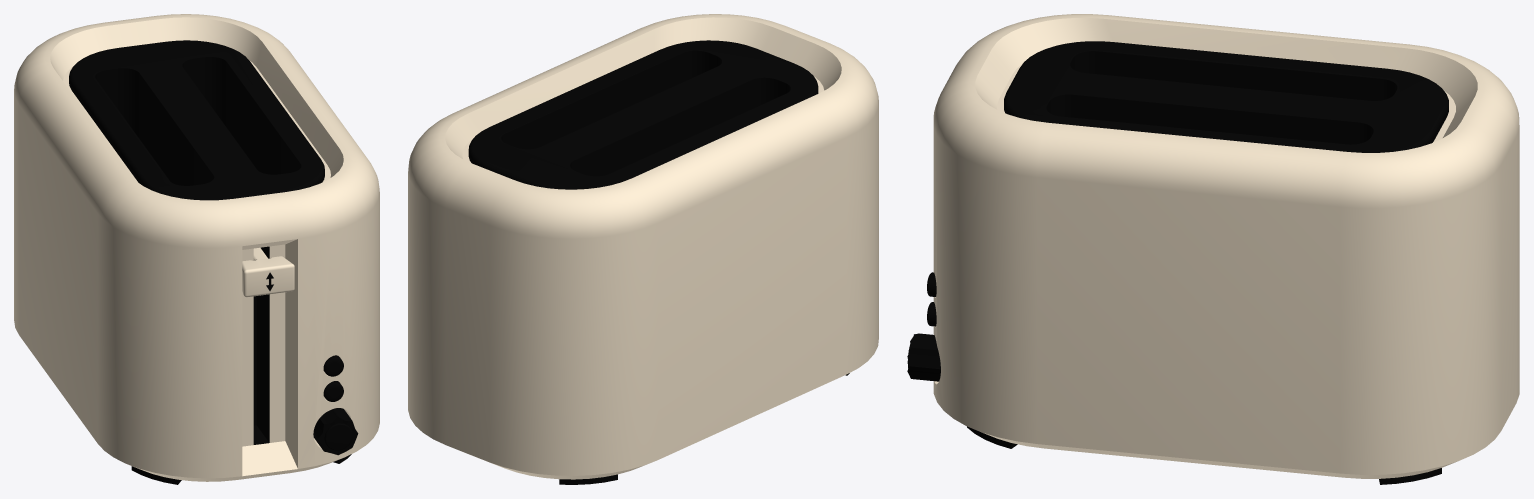
Rendered from 32809140-kitchen-3428.glb.
3 renders of one model, left to right at view 1: azimuth 30°, elevation 25°; view 2: azimuth 150°, elevation 25°; view 3: azimuth 270°, elevation 25°, orthographic. The views are drawn at different scales.
Visible parts, largest first — view 1: TOASTER; view 2: TOASTER; view 3: TOASTER.
Part boxes in pixels (<box>): TOASTER: <box>14,14,379,484</box>; TOASTER: <box>408,14,878,484</box>; TOASTER: <box>907,14,1519,484</box>.
Size of the model in its own units: 0.2032 by 0.1808 by 0.3085.
Materials: 3 (1 with a texture image).
